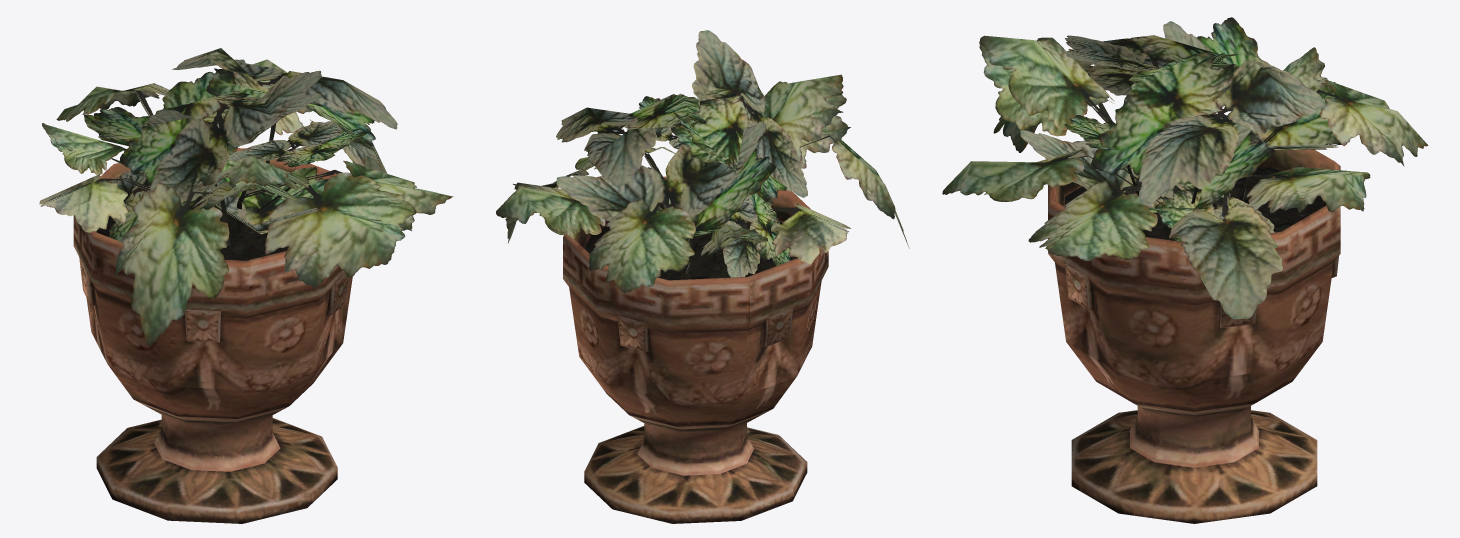
Rendered from pot_plant_small02.dae.
3 renders of one model, left to right at view 1: azimuth 30°, elevation 25°; view 2: azimuth 150°, elevation 25°; view 3: azimuth 270°, elevation 25°, orthographic. The views are drawn at different scales.
Parts seen in each view (by area): view 1: Cylinder01; view 2: Cylinder01; view 3: Cylinder01.
Boxes of the visible parts, <box> form: Cylinder01: <box>39,48,453,523</box>; Cylinder01: <box>496,30,909,523</box>; Cylinder01: <box>942,17,1428,523</box>.
Bounding box in the file's own units: 0.5218 × 0.5728 × 0.5825.
